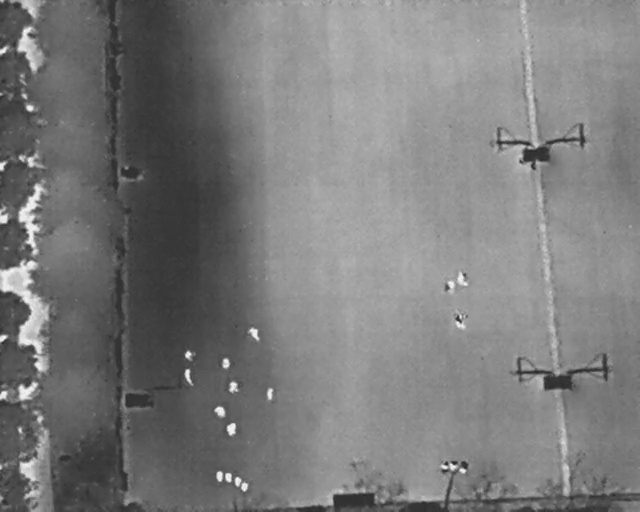Person: (246, 325, 262, 344), (454, 311, 468, 330), (457, 270, 469, 288), (185, 369, 194, 388), (226, 422, 237, 437), (446, 278, 456, 294), (214, 406, 226, 418), (229, 380, 239, 394), (266, 388, 274, 401), (222, 358, 230, 370), (185, 350, 193, 361)
